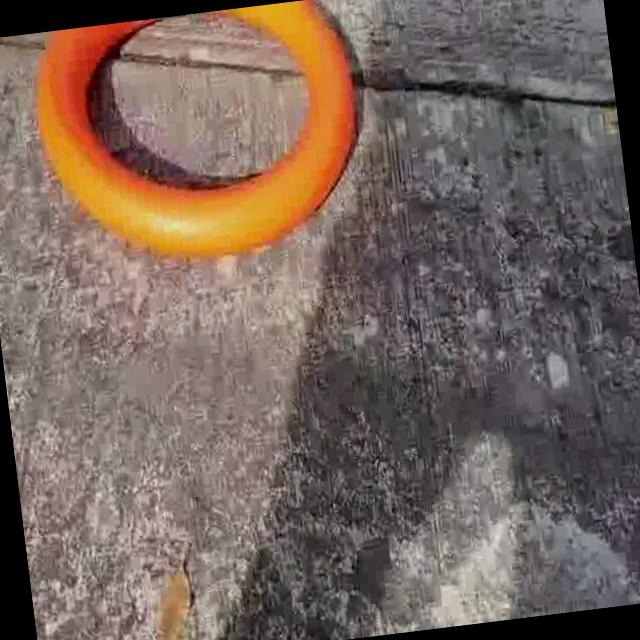note: (24, 0, 381, 287)
